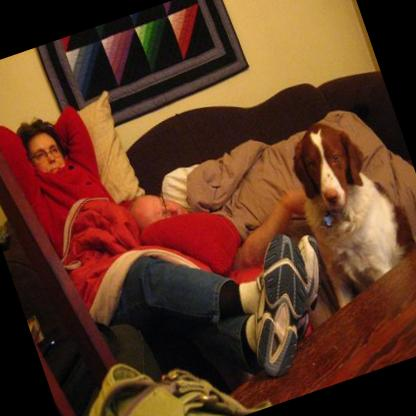Brittany_spaniel: (275, 103, 416, 313)
